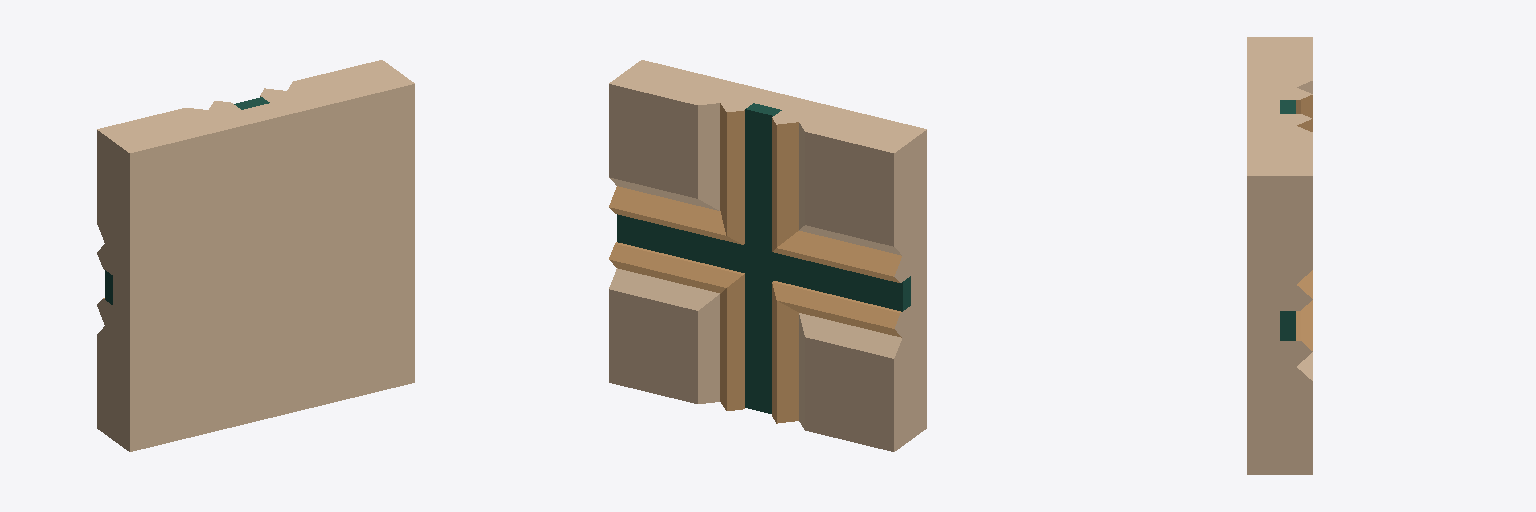
File: Puzzle_Wall_Conduit_Path_Cross.obj
3 views of the same model, side by side, from view 1: azimuth 30°, elevation 25°; view 2: azimuth 150°, elevation 25°; view 3: azimuth 270°, elevation 25° (orthographic).
Parts seen in each view (by area): view 1: object2; view 2: object2, object1; view 3: object2, object1.
Boxes of the visible parts, x1=… form: object2: x1=97, y1=60, x2=414, y2=451; object2: x1=609, y1=60, x2=926, y2=451; object1: x1=617, y1=103, x2=910, y2=413; object2: x1=1247, y1=37, x2=1312, y2=474; object1: x1=1280, y1=100, x2=1295, y2=340.
Size of the model in its own units: 1 by 1 by 0.2.